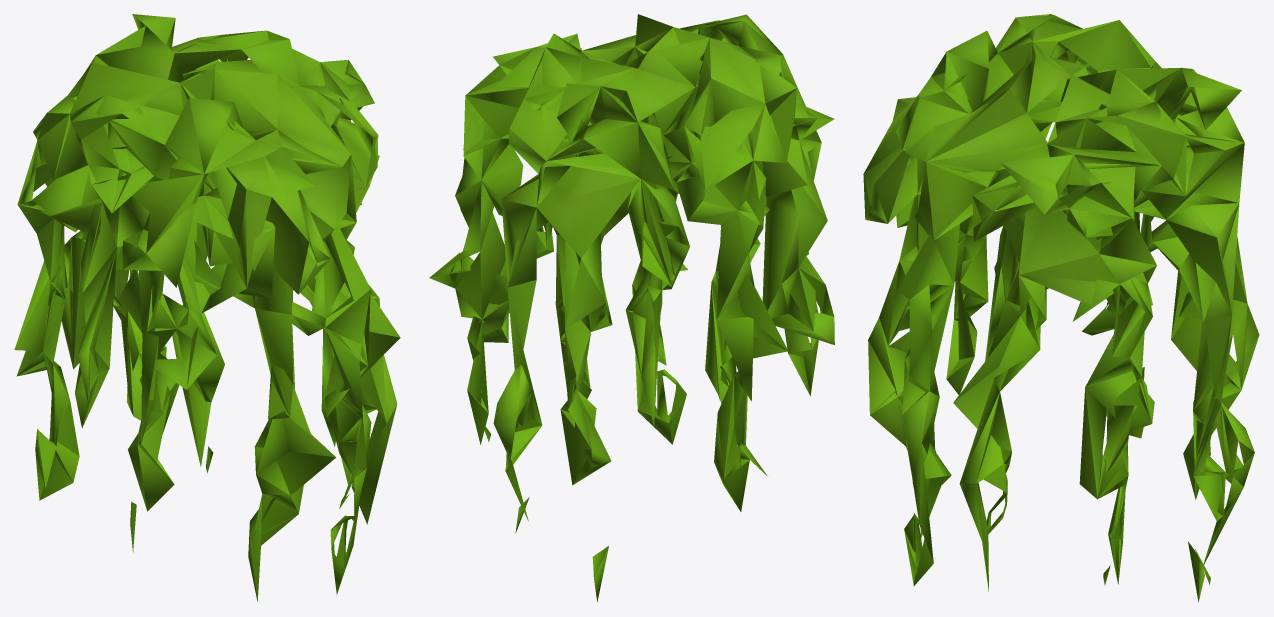
The model's file is hangingVine.glb.
3 renders of one model, left to right at view 1: azimuth 30°, elevation 25°; view 2: azimuth 150°, elevation 25°; view 3: azimuth 270°, elevation 25°, orthographic. The views are drawn at different scales.
Visible parts, largest first — view 1: model; view 2: model; view 3: model.
Boxes of the visible parts, box(x1,y1,x2,y2) form: model: box(14, 14, 400, 601); model: box(429, 14, 834, 601); model: box(863, 14, 1259, 602).
Size of the model in its own units: 1.19 by 1.73 by 1.13.
Materials: 1 (1 with a texture image).
